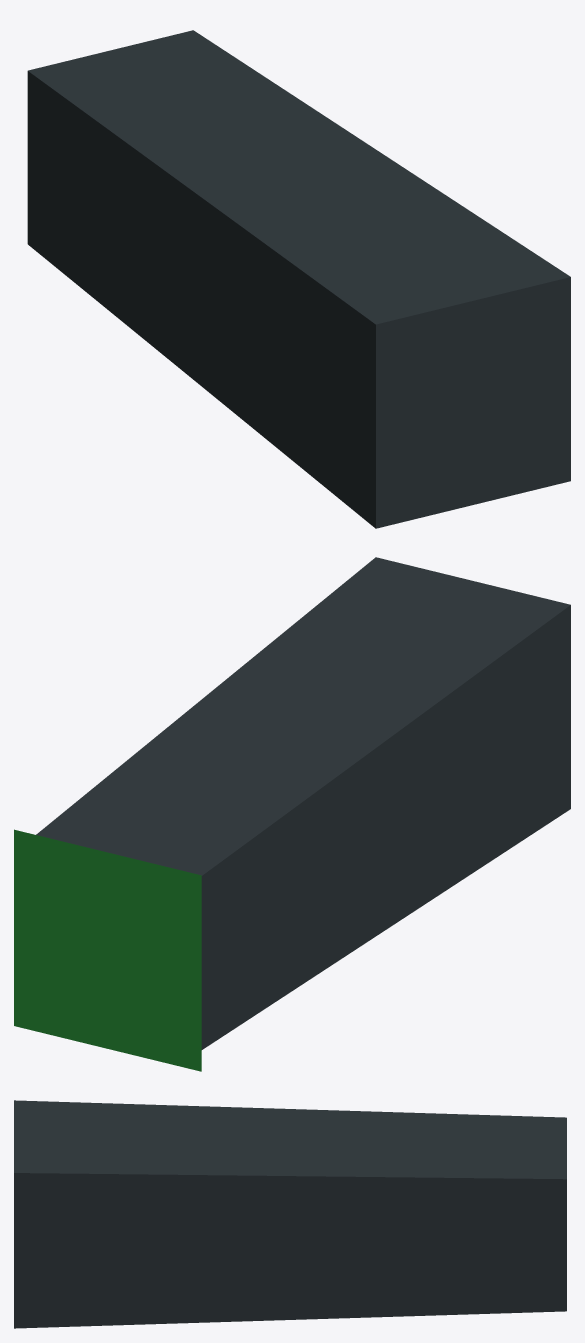
The picture shows the model from 3 angles, top to bottom: view 1: azimuth 30°, elevation 25°; view 2: azimuth 150°, elevation 25°; view 3: azimuth 270°, elevation 25°; orthographic projection. The views are drawn at different scales.
Parts seen in each view (by area): view 1: mount; view 2: mount; view 3: mount.
Boxes of the visible parts, left/top/right/bottom form: mount: left=27, top=30, right=570, bottom=528; mount: left=14, top=557, right=570, bottom=1071; mount: left=14, top=1100, right=566, bottom=1328.
Size of the model in its own units: 1.27 by 1.27 by 4.13.
